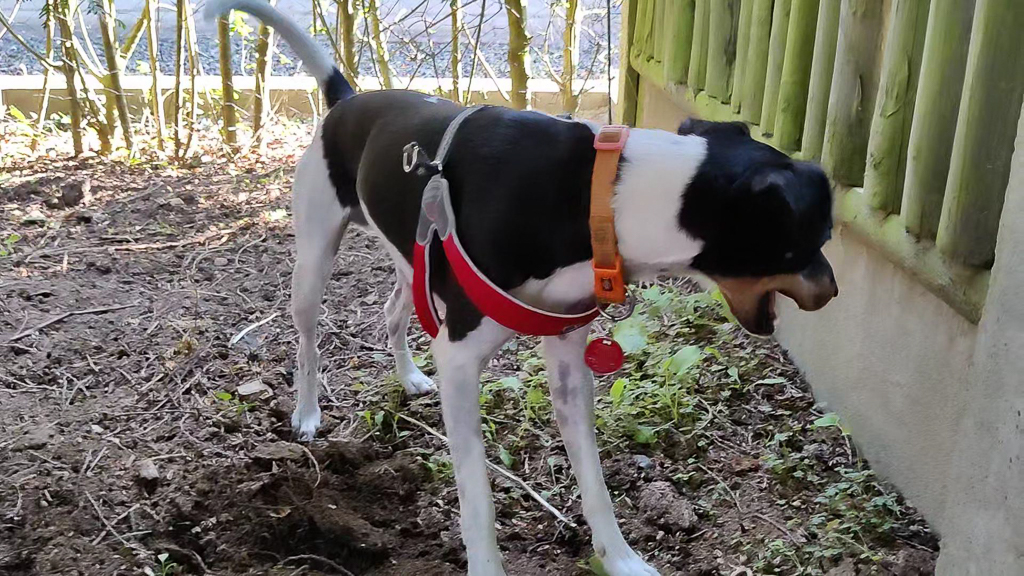Dog: (186, 0, 848, 576)
